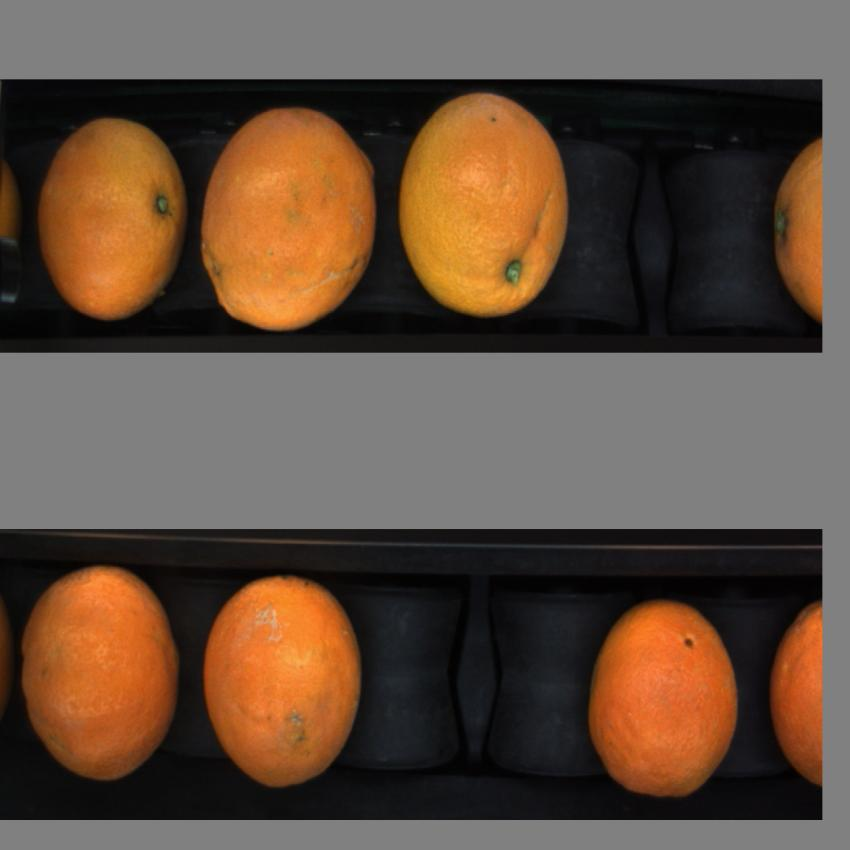Buen estado: (16, 554, 194, 791), (395, 96, 579, 325), (197, 106, 384, 327), (199, 574, 371, 790), (35, 111, 191, 329), (765, 122, 823, 328), (766, 586, 824, 790)
Mal estado: (584, 595, 740, 801)
